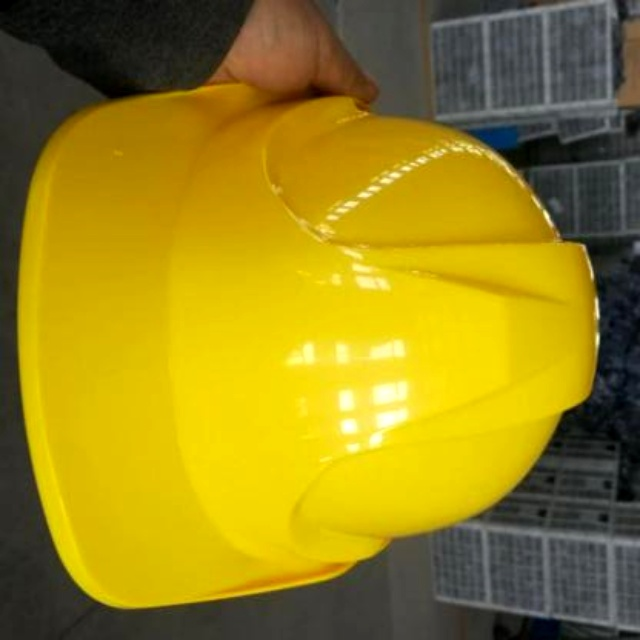yellow-helm: (33, 55, 605, 612)
